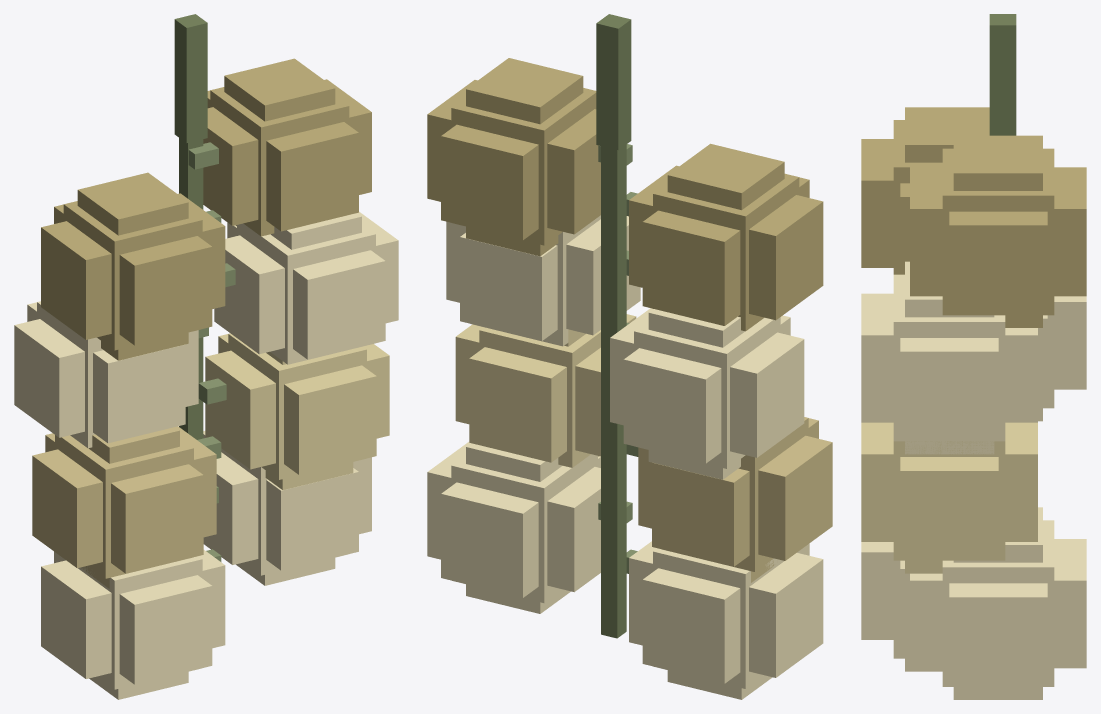
File: CU-04_blanka.glb
The picture shows the model from 3 angles, left to right: view 1: azimuth 30°, elevation 25°; view 2: azimuth 150°, elevation 25°; view 3: azimuth 270°, elevation 25°; orthographic projection. The views are drawn at different scales.
Parts seen in each view (by area): view 1: Blanka · original workbench cubes; view 2: Blanka · original workbench cubes; view 3: Blanka · original workbench cubes.
Boxes of the visible parts, x1,y1,x2,y2 form: Blanka · original workbench cubes: (14,14,398,699); Blanka · original workbench cubes: (427,14,832,699); Blanka · original workbench cubes: (861,14,1086,699).
Size of the model in its own units: 0.0917 by 0.1683 by 0.0508.
